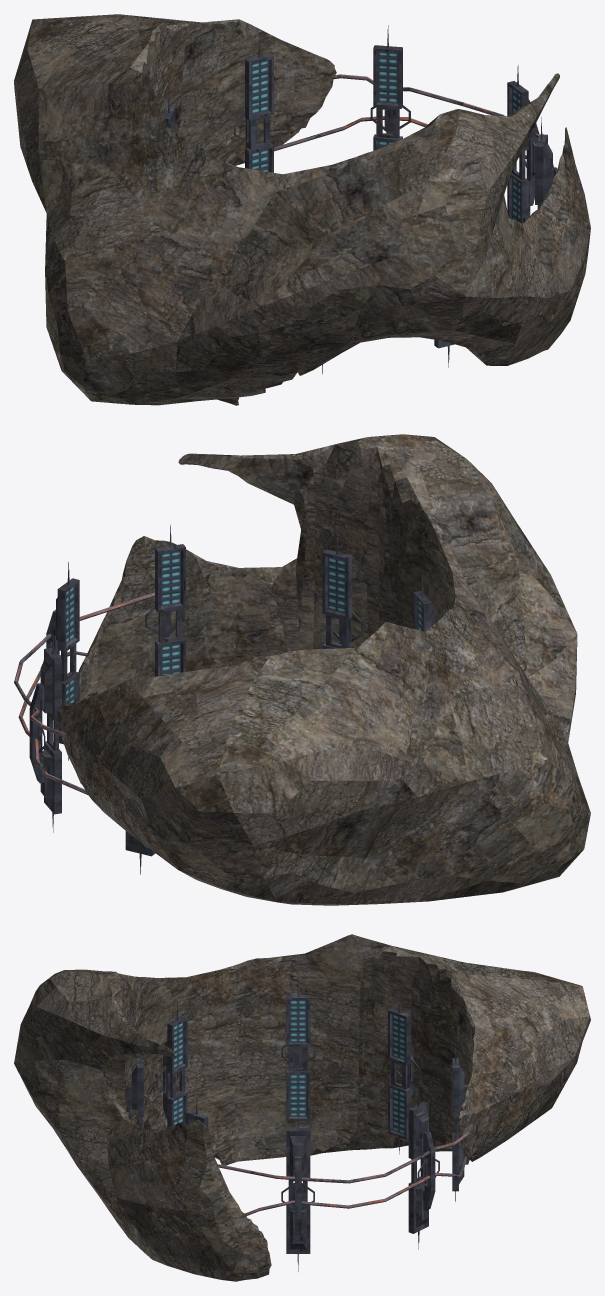
File: MassAccelerator.obj
The picture shows the model from 3 angles, top to bottom: view 1: azimuth 30°, elevation 25°; view 2: azimuth 150°, elevation 25°; view 3: azimuth 270°, elevation 25°; orthographic projection. The views are drawn at different scales.
Visible parts, largest first — view 1: GeoSphere01; view 2: GeoSphere01; view 3: GeoSphere01.
Part boxes in pixels (bbox=[...]): GeoSphere01: bbox=[14, 14, 590, 405]; GeoSphere01: bbox=[14, 434, 590, 905]; GeoSphere01: bbox=[14, 934, 590, 1281].
Size of the model in its own units: 116 by 67.86 by 139.
1 material, 1 textured.
